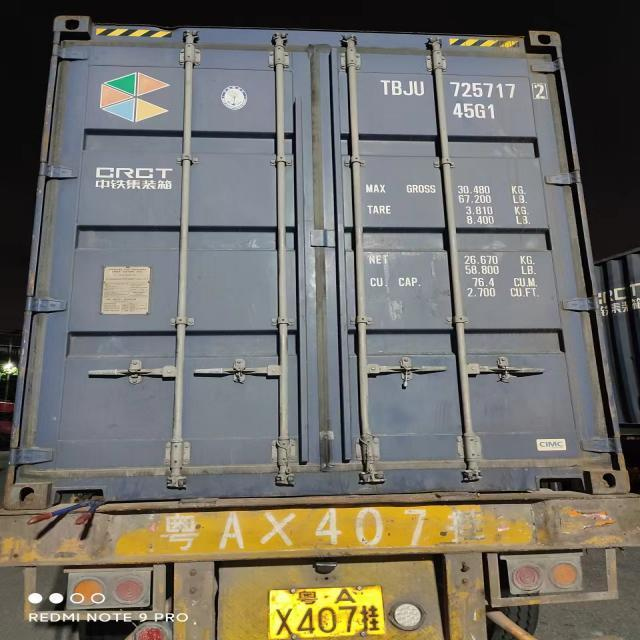ISO: (455, 101, 497, 121)
container_number: (386, 78, 544, 101)
